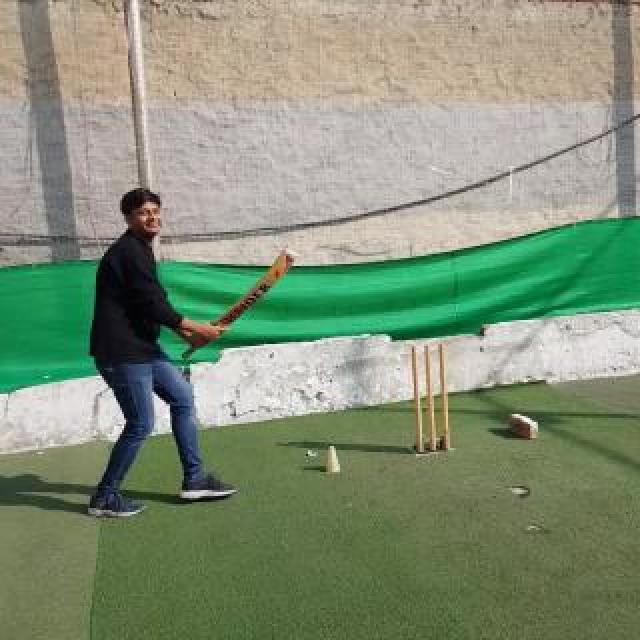bat: (182, 248, 298, 358)
